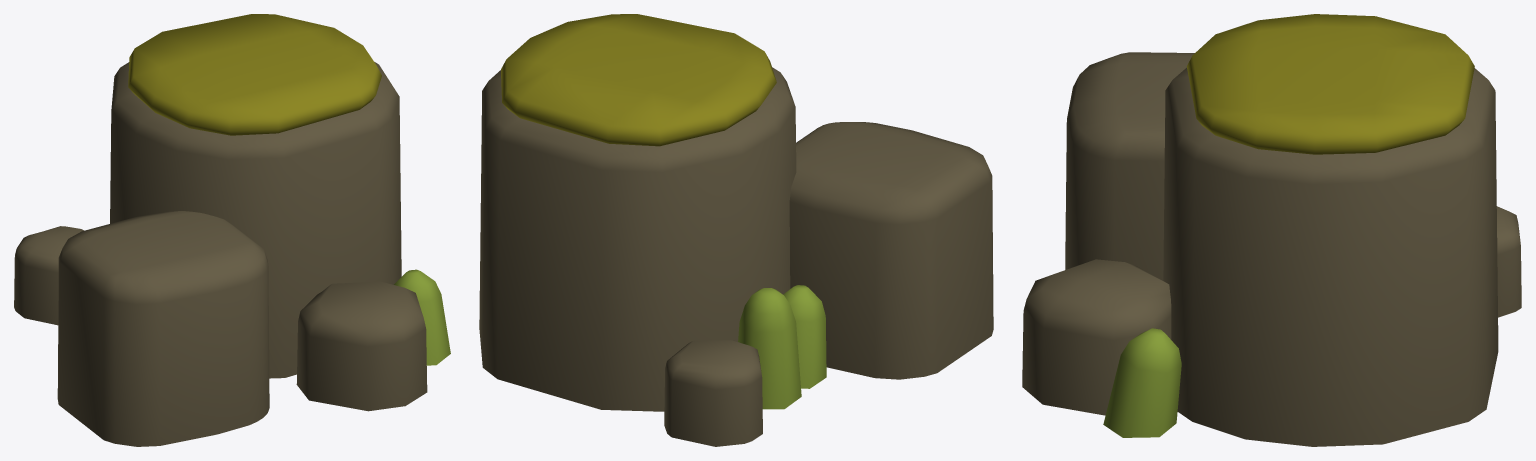
File: rock_group_medium.glb
3 views of the same model, side by side, from view 1: azimuth 30°, elevation 25°; view 2: azimuth 150°, elevation 25°; view 3: azimuth 270°, elevation 25° (orthographic). The views are drawn at different scales.
Visible parts, largest first — view 1: rock_group_medium; view 2: rock_group_medium; view 3: rock_group_medium.
Part boxes in pixels (x1,y1,x2,y2): rock_group_medium: (14,14,450,446); rock_group_medium: (479,14,993,446); rock_group_medium: (1022,14,1521,446).
Bounding box in the file's own units: 1.88 × 1.26 × 1.88.
1 material, 1 textured.
